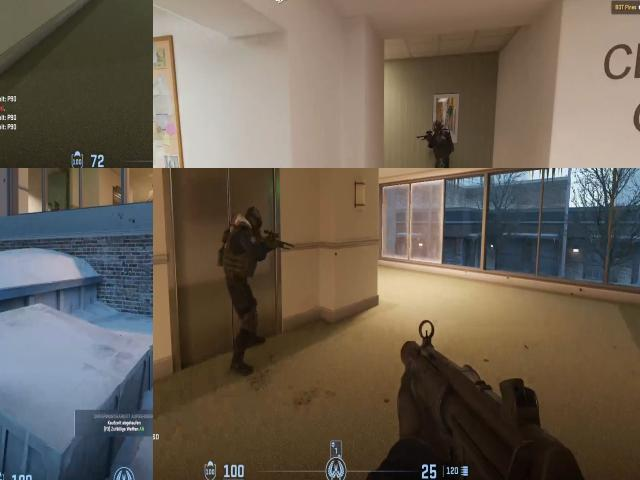CT: (219, 195, 266, 308)
CT-Head: (429, 117, 453, 168), (232, 206, 262, 228), (431, 118, 445, 136)
T: (146, 179, 153, 204)
T-Head: (149, 178, 153, 192)
